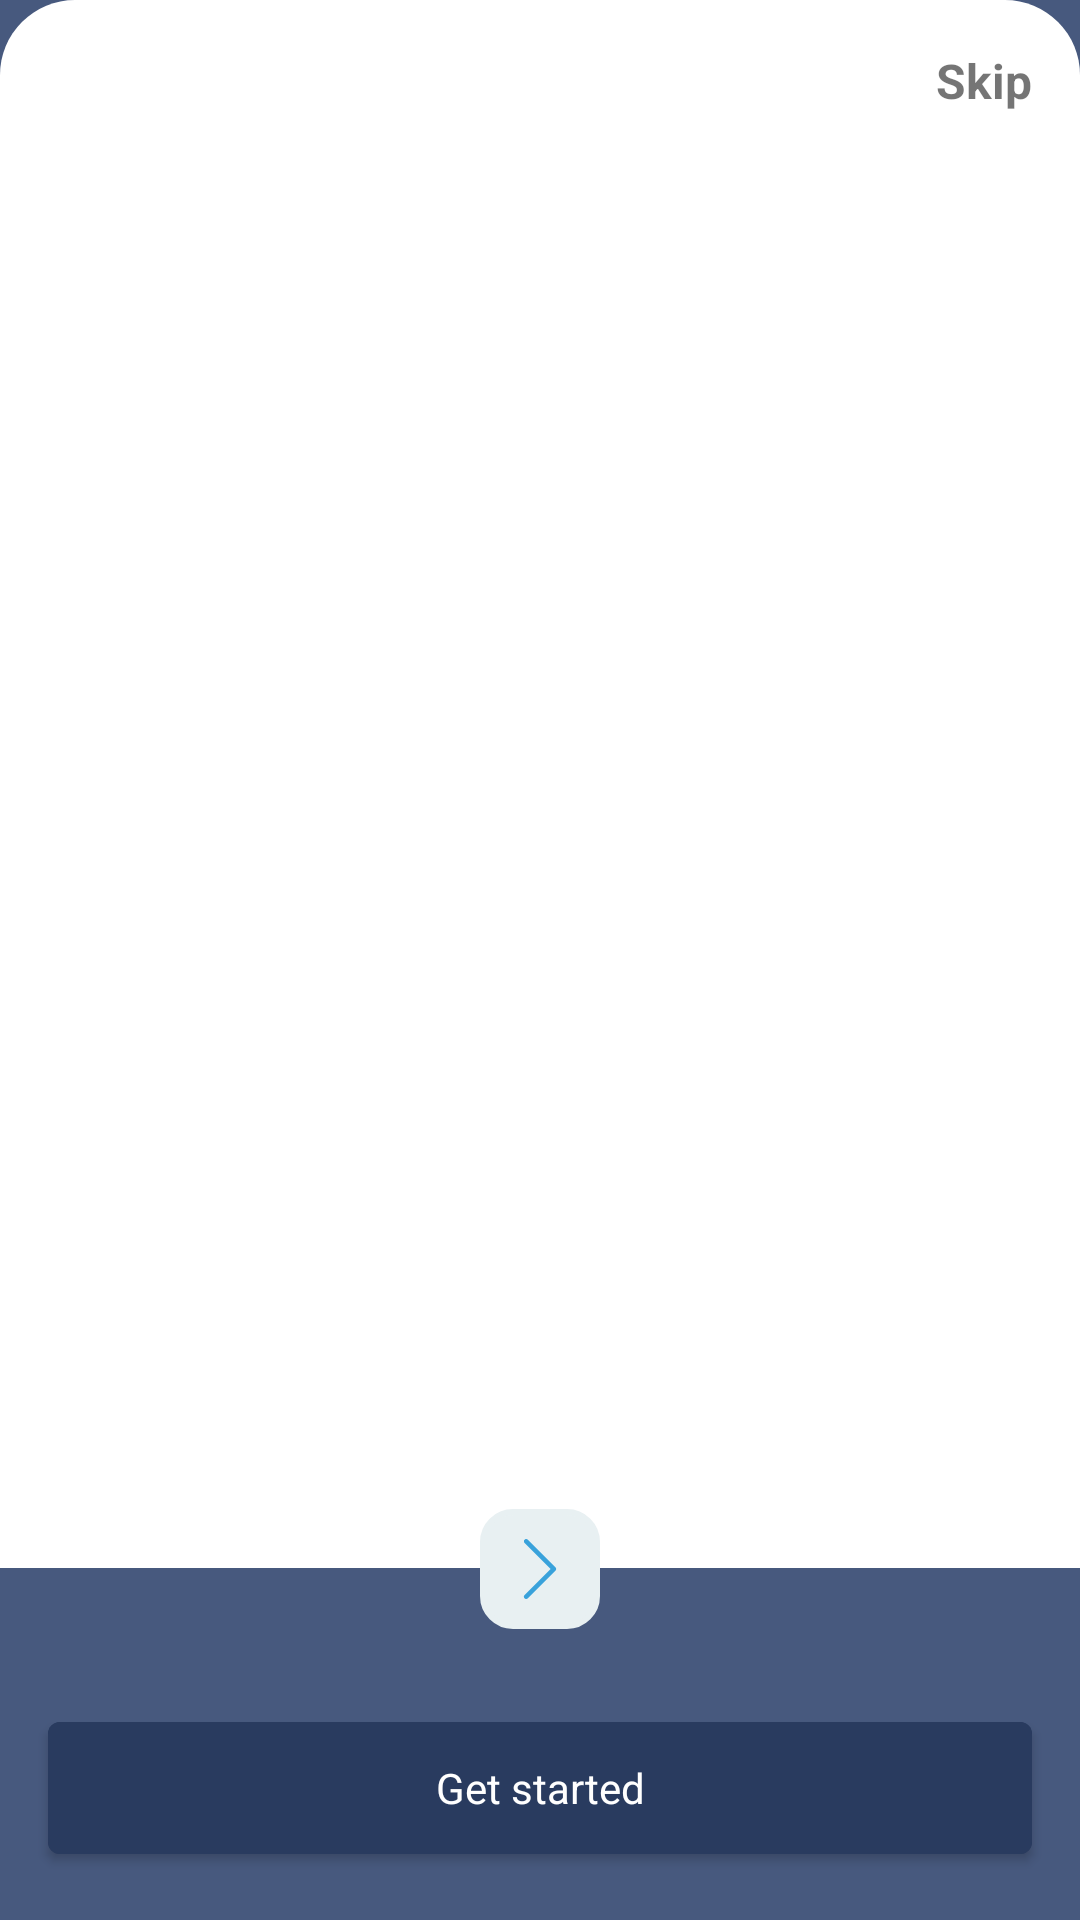

Icon click points for this 1080 × 1920 phone screenshot, format (x=x, y=y):
arrow right: (x=540, y=1569)
